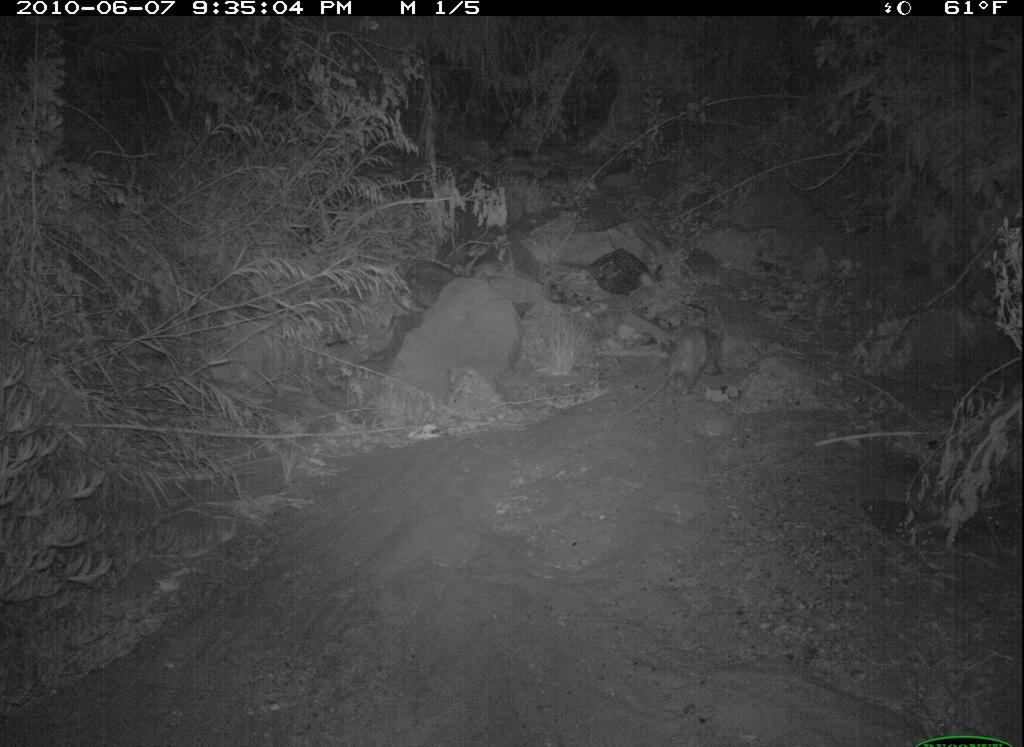opossum: (651, 306, 730, 409)
